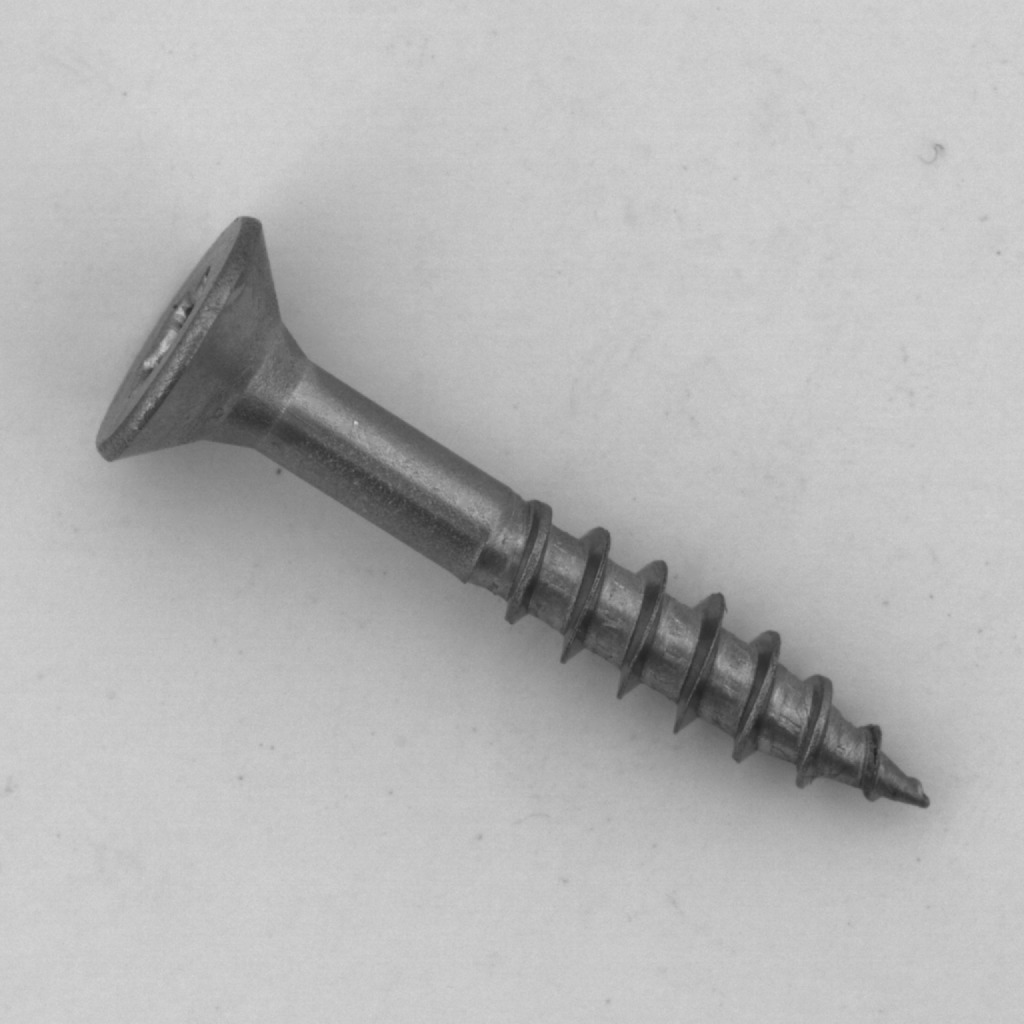good: (81, 207, 945, 834)
